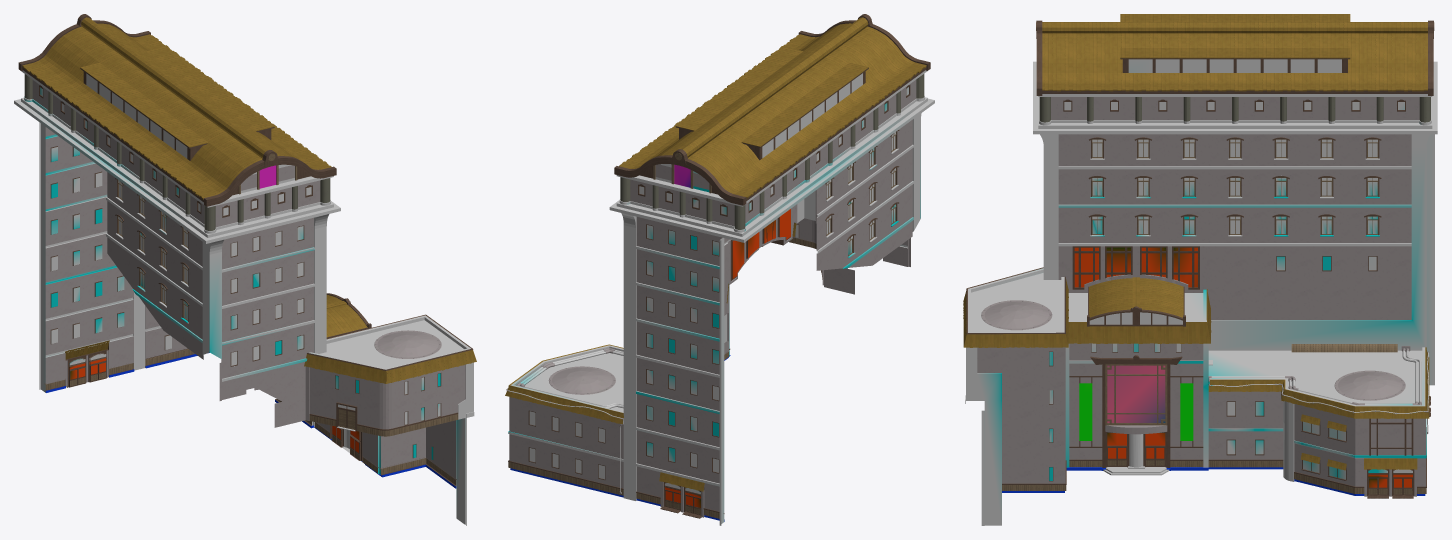
File: SM_ENV_KNVLLG_AreaF_Building_A_Part01.mo.fbx
3 views of the same model, side by side, from view 1: azimuth 30°, elevation 25°; view 2: azimuth 150°, elevation 25°; view 3: azimuth 270°, elevation 25° (orthographic). The views are drawn at different scales.
Parts seen in each view (by area): view 1: SM_ENV_KNVLLG_AreaF_Building_A_Part01.mo; view 2: SM_ENV_KNVLLG_AreaF_Building_A_Part01.mo; view 3: SM_ENV_KNVLLG_AreaF_Building_A_Part01.mo.
Part boxes in pixels (box(x1,y1,x2,y2)): SM_ENV_KNVLLG_AreaF_Building_A_Part01.mo: box(14, 14, 476, 525); SM_ENV_KNVLLG_AreaF_Building_A_Part01.mo: box(505, 14, 934, 525); SM_ENV_KNVLLG_AreaF_Building_A_Part01.mo: box(963, 14, 1437, 525).
Size of the model in its own units: 42.45 by 65.24 by 67.14.
